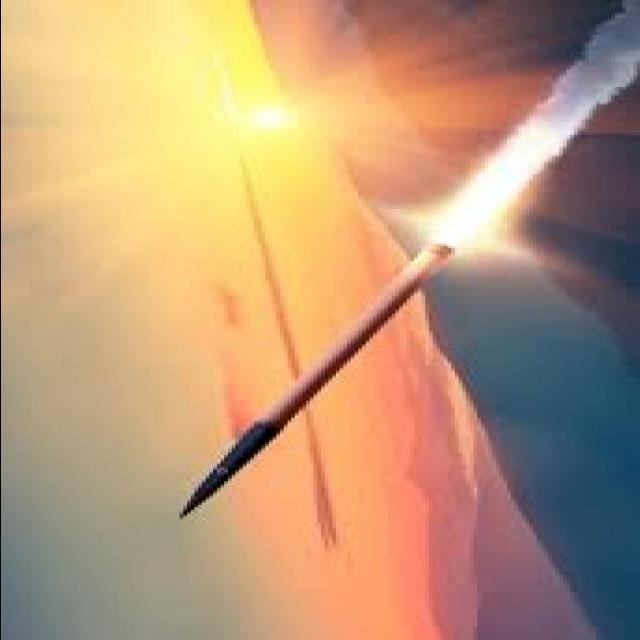Missile: (170, 240, 445, 528)
